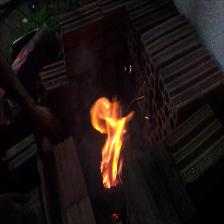fire: (88, 86, 155, 200)
